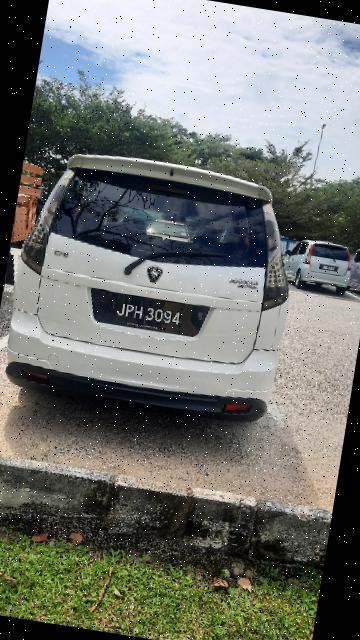License_Plate: (81, 287, 216, 344)
car: (1, 142, 311, 437)
